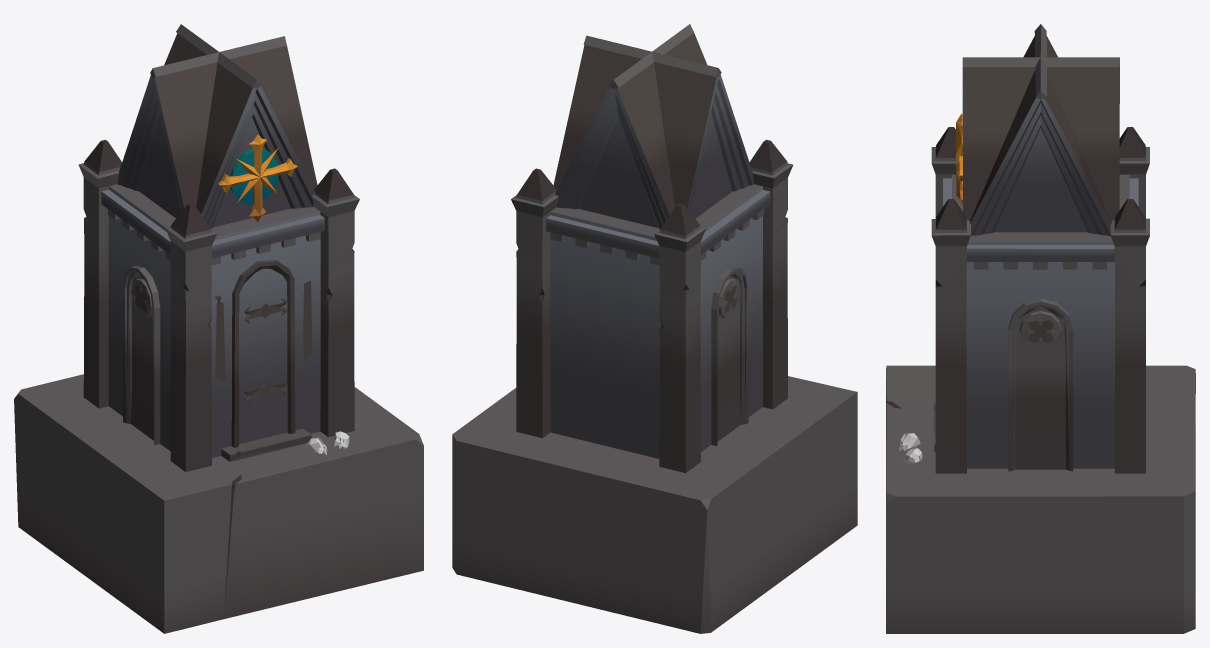
The model's file is Crypt_02_2.fbx.
The picture shows the model from 3 angles, left to right: view 1: azimuth 30°, elevation 25°; view 2: azimuth 150°, elevation 25°; view 3: azimuth 270°, elevation 25°; orthographic projection. The views are drawn at different scales.
Parts seen in each view (by area): view 1: Crypt_02_2; view 2: Crypt_02_2; view 3: Crypt_02_2.
Boxes of the visible parts, box(x1,y1,x2,y2) form: Crypt_02_2: box(14, 24, 423, 633); Crypt_02_2: box(452, 24, 857, 633); Crypt_02_2: box(886, 24, 1195, 633).
Size of the model in its own units: 600 by 1121 by 600.
